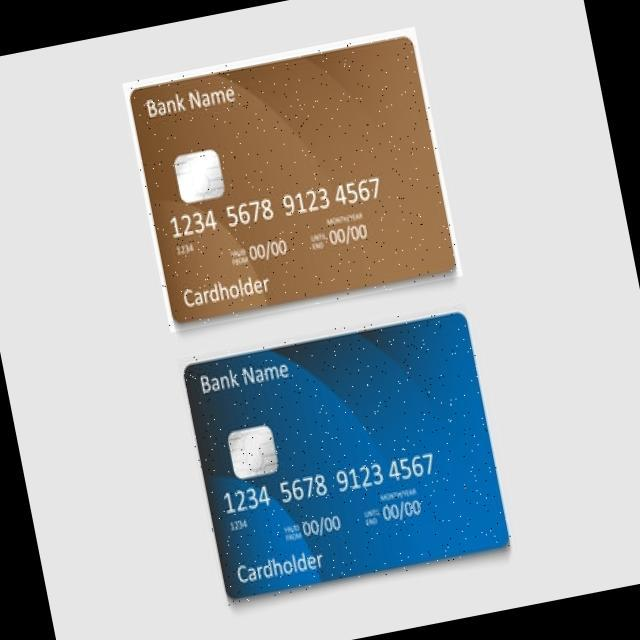payment_card: (122, 26, 460, 326), (182, 310, 511, 601)
